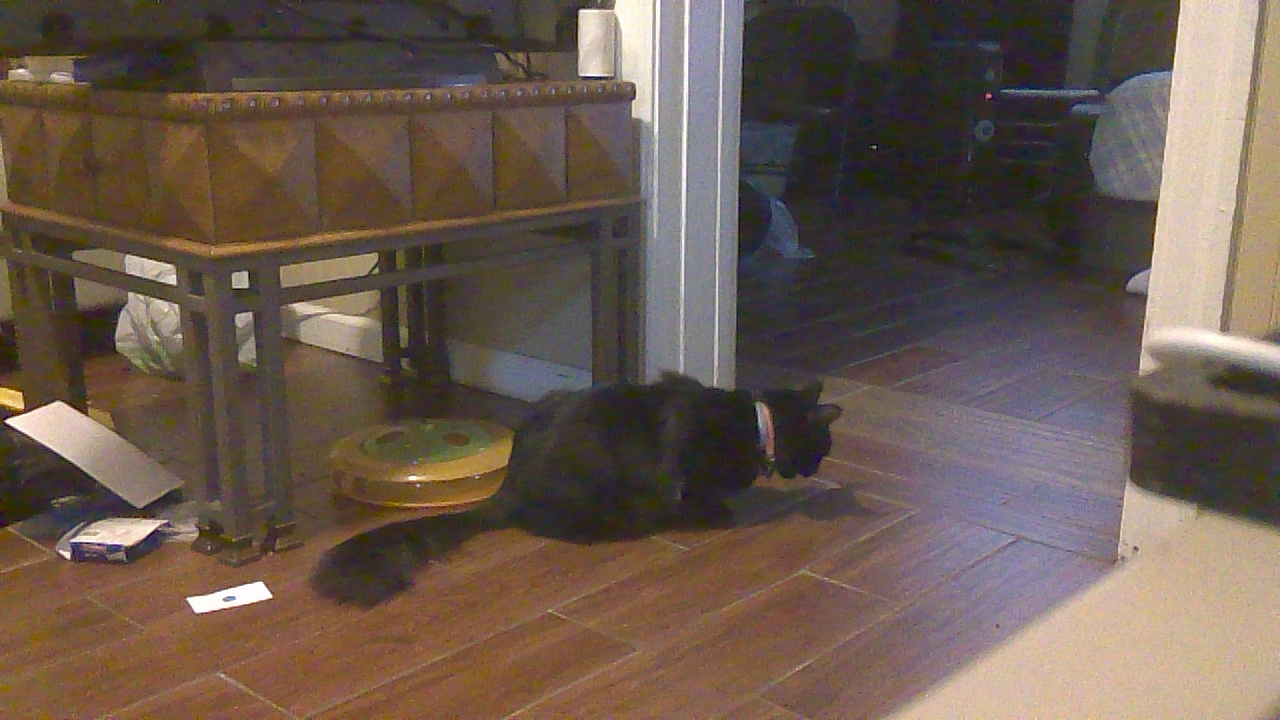cat: (311, 366, 840, 606)
